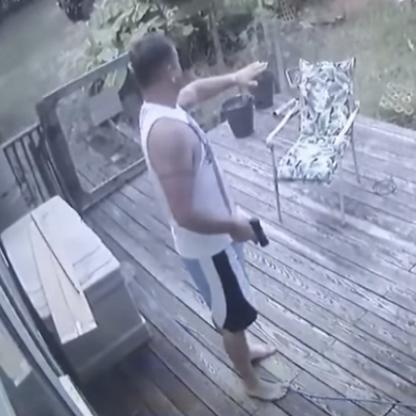criminal: (129, 33, 292, 400)
weapon: (247, 217, 272, 248)
